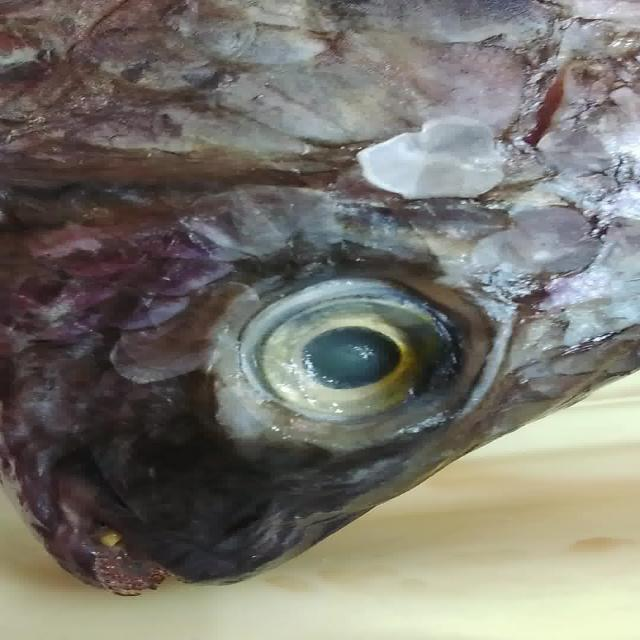Non-Fresh: (206, 259, 514, 460)
